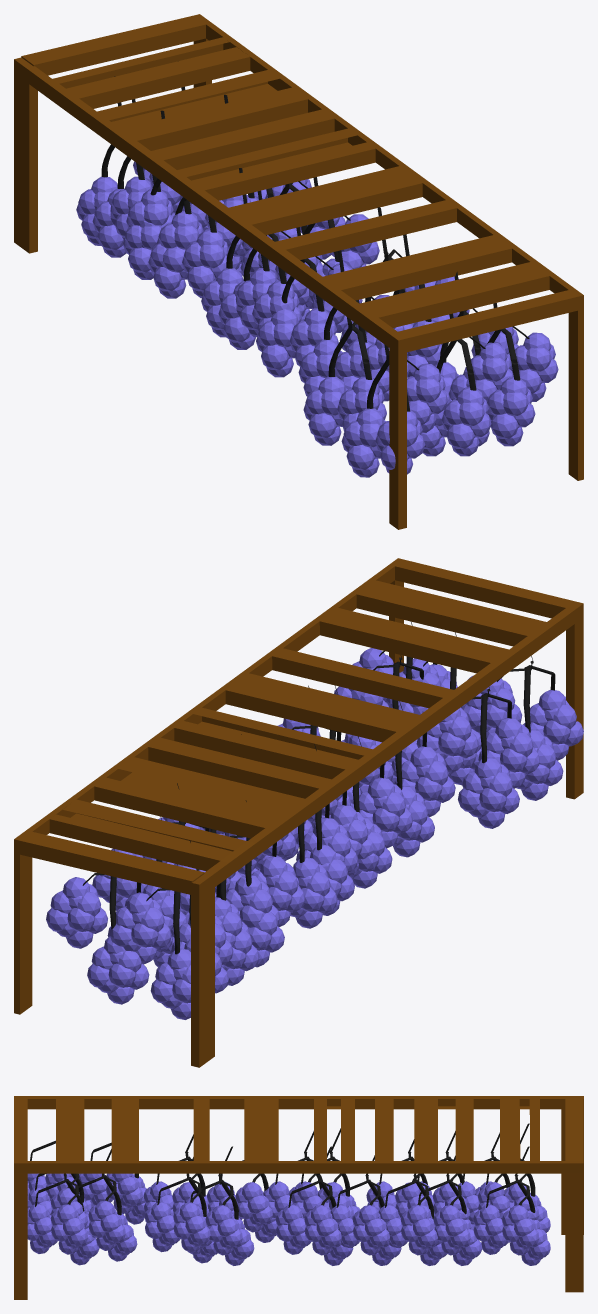
Rendered from ladderandgrapes.fbx.
3 views of the same model, one above another, from view 1: azimuth 30°, elevation 25°; view 2: azimuth 150°, elevation 25°; view 3: azimuth 270°, elevation 25° (orthographic). The views are drawn at different scales.
Visible parts, largest first — view 1: Cube; view 2: Cube; view 3: Cube.
Part boxes in pixels (<box>): Cube: <box>14,14,583,529</box>; Cube: <box>14,558,583,1067</box>; Cube: <box>14,1096,583,1299</box>.
Size of the model in its own units: 240 by 208 by 759.
